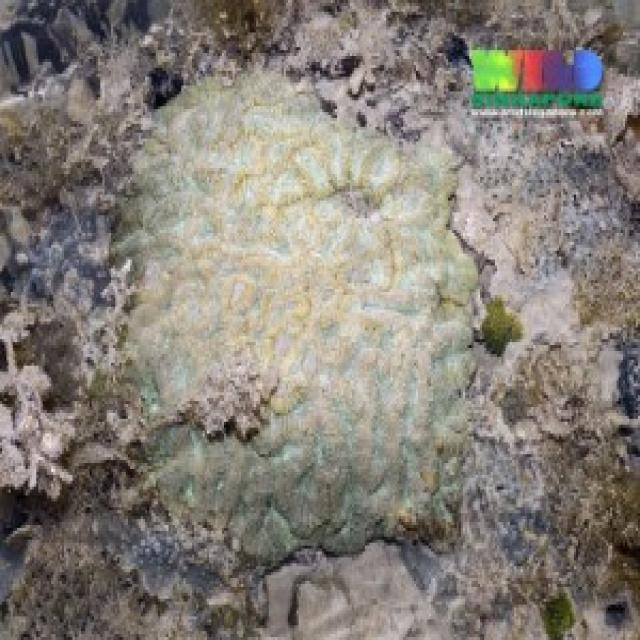Bleached: (116, 72, 477, 561)
